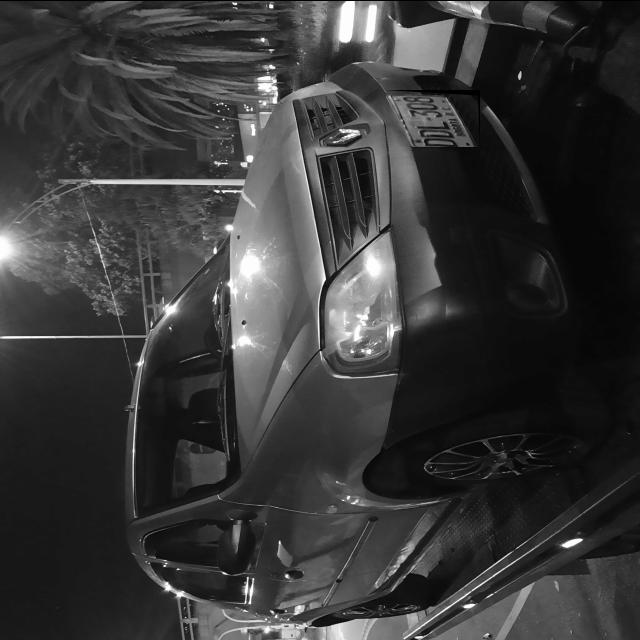plate: (386, 90, 479, 146)
